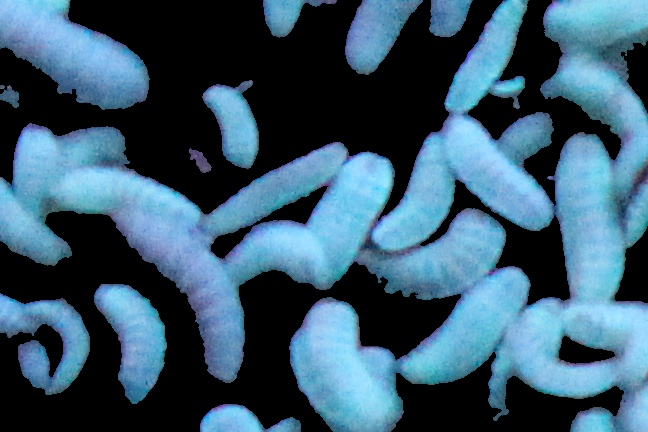larvae: (116, 214, 251, 393), (1, 6, 174, 113), (399, 258, 540, 387), (285, 293, 404, 432), (199, 135, 352, 236), (437, 113, 552, 242), (354, 200, 510, 294), (549, 134, 626, 315), (303, 152, 392, 290), (368, 121, 457, 246), (435, 1, 530, 114), (91, 280, 168, 418), (517, 300, 612, 396), (58, 169, 199, 230), (551, 56, 648, 131), (1, 181, 80, 270), (195, 80, 265, 176), (45, 292, 100, 393), (10, 120, 59, 210)
